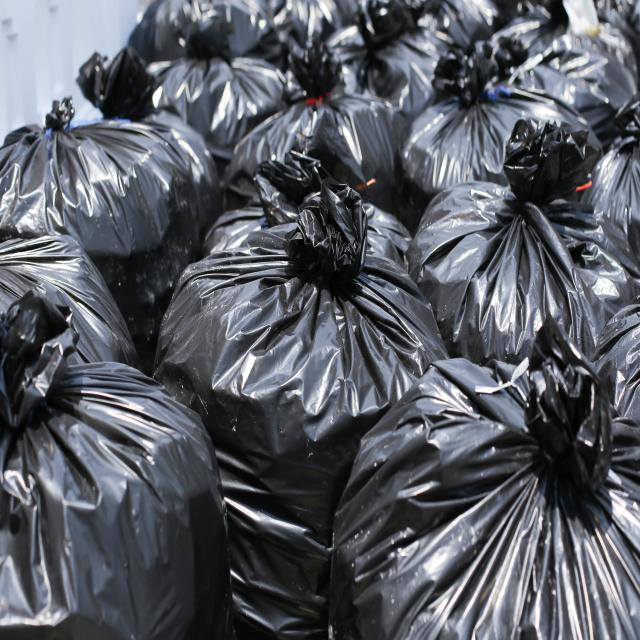Single-layer Plastic: (154, 178, 446, 638), (330, 318, 640, 638), (0, 291, 234, 638), (0, 98, 221, 371), (406, 119, 640, 365), (226, 41, 405, 213), (402, 41, 589, 197), (152, 16, 285, 176), (0, 234, 140, 369), (326, 0, 454, 133), (581, 94, 640, 263)
